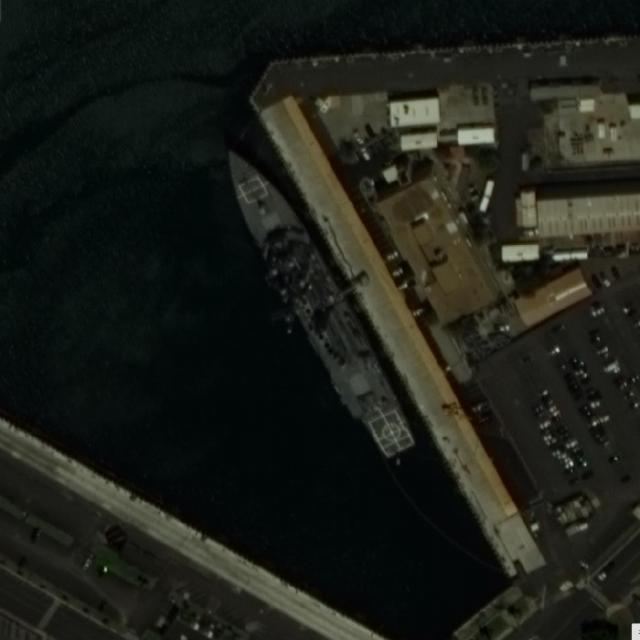Destroyer: (209, 135, 424, 465)
